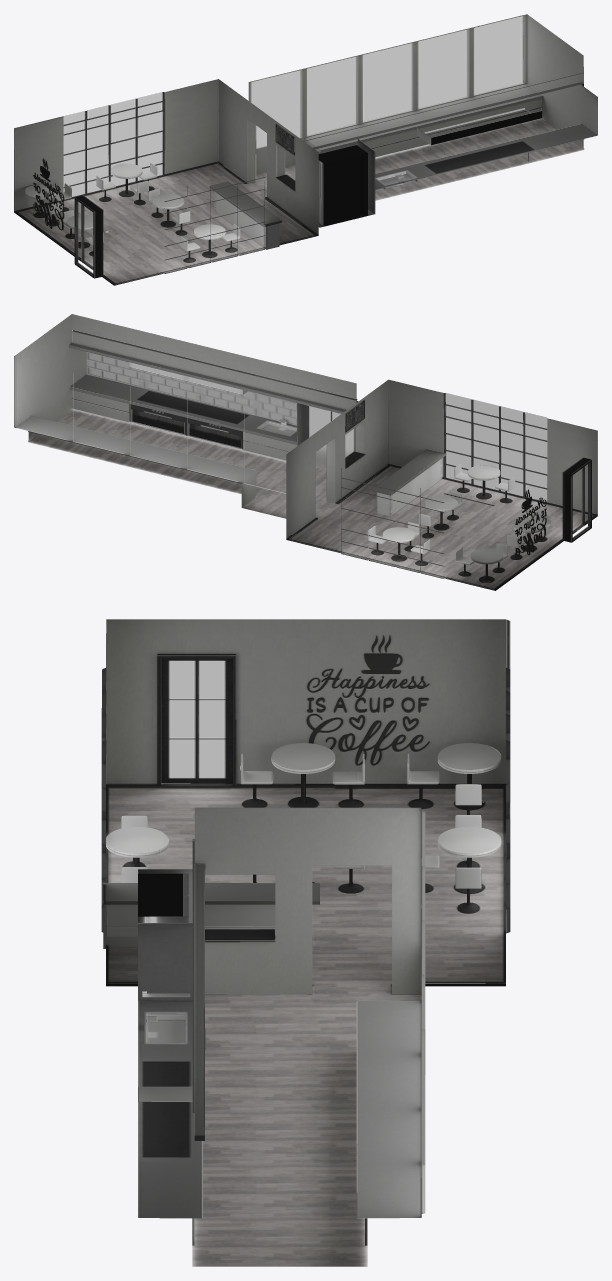
The model's file is small-cafe.glb.
3 views of the same model, one above another, from view 1: azimuth 30°, elevation 25°; view 2: azimuth 150°, elevation 25°; view 3: azimuth 270°, elevation 25° (orthographic). The views are drawn at different scales.
Visible parts, largest first — view 1: SmallCafe, Fridge; view 2: SmallCafe, FDoorL; view 3: SmallCafe, Fridge.
Part boxes in pixels (x1,y1,x2,y2): SmallCafe: (14, 14, 597, 285); Fridge: (318, 145, 367, 226); SmallCafe: (14, 314, 597, 590); FDoorL: (309, 406, 331, 470); SmallCafe: (101, 619, 510, 1266); Fridge: (138, 873, 182, 922).
Size of the model in its own units: 19.1 by 3.45 by 6.77.
6 materials, 6 textured.
